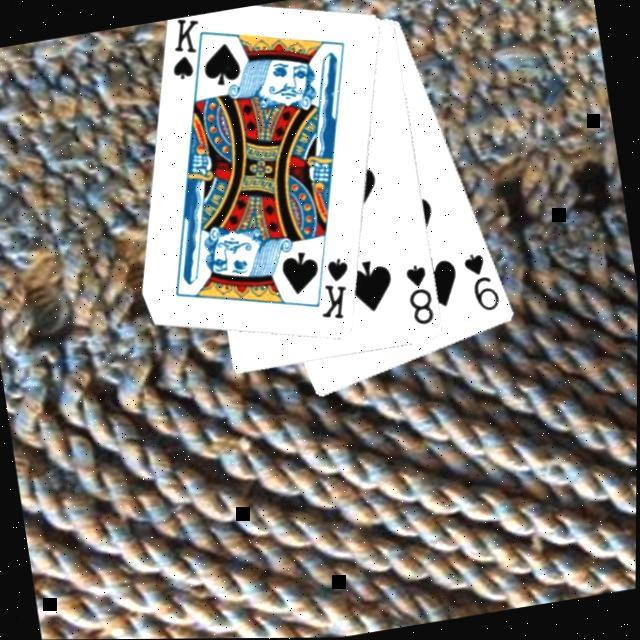8S: (402, 262, 438, 331)
9S: (459, 248, 505, 319)
KS: (162, 13, 216, 95), (310, 254, 360, 327)
